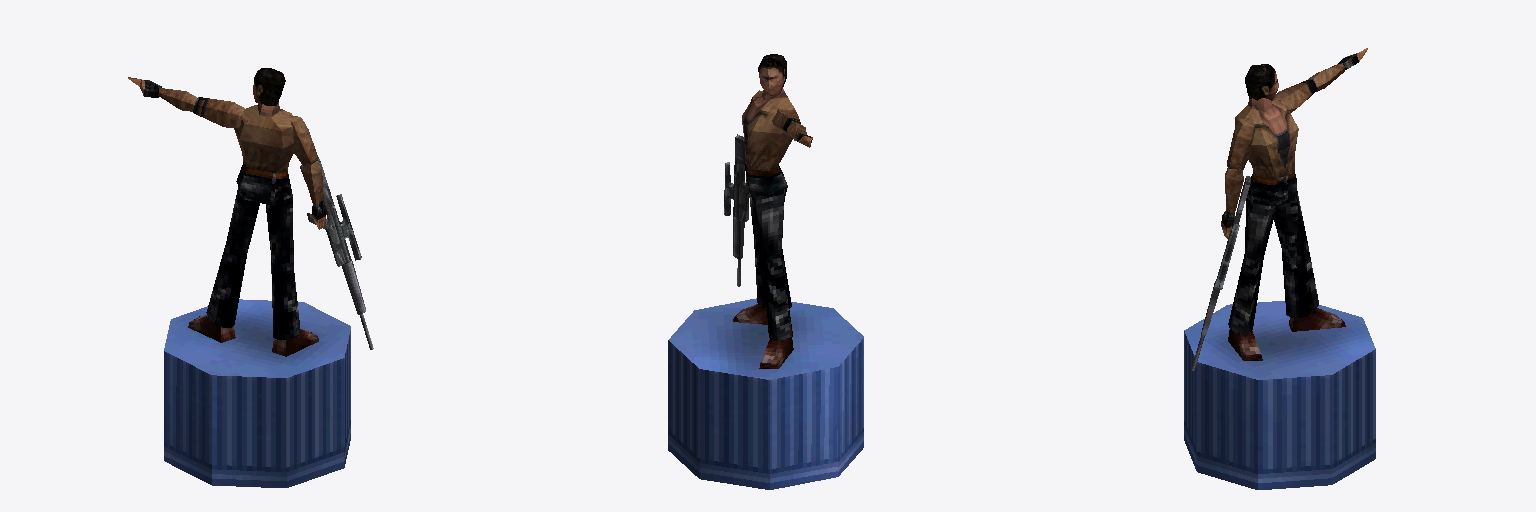
3 renders of one model, left to right at view 1: azimuth 30°, elevation 25°; view 2: azimuth 150°, elevation 25°; view 3: azimuth 270°, elevation 25°, orthographic.
Bounding box in the file's own units: 2.06 × 4.49 × 2.02.
Materials: 1 (1 with a texture image).